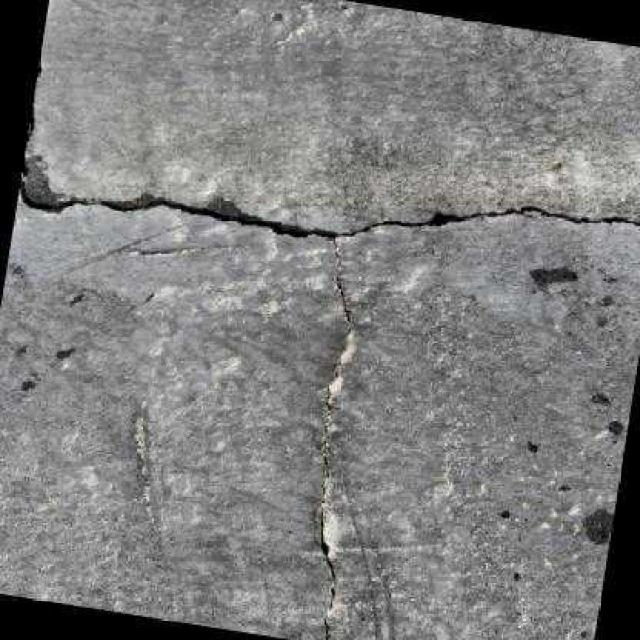D00: (15, 56, 640, 640)
